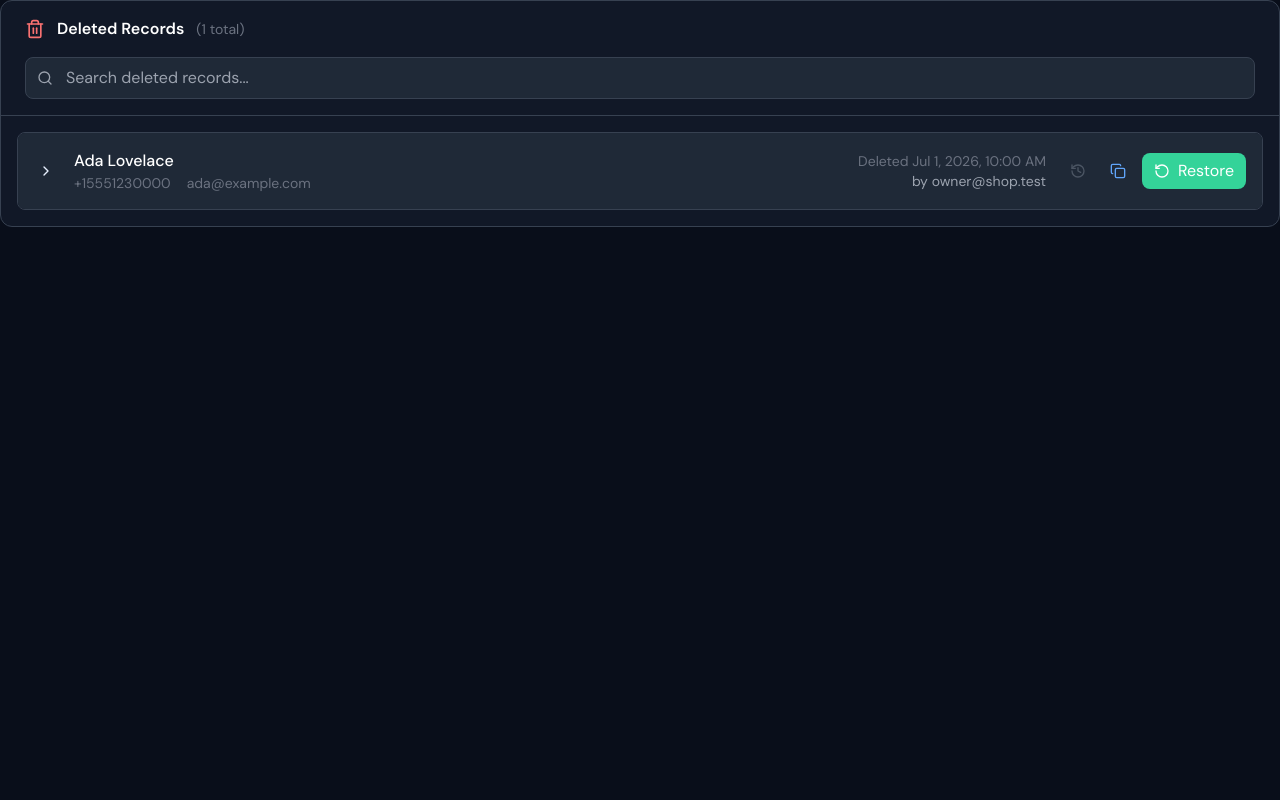
Test: DeletedRecordsPanel a11y › copy dialog has dialog semantics and closes on Escape
This screenshot has width=1280, height=800.
Check: the text "Ada Lovelace" is shown, box [74,150,174,171]
Click the button named "Copy fields from Ada Lovelace" at coordinates (1118, 171), box [1102,153,1134,189]
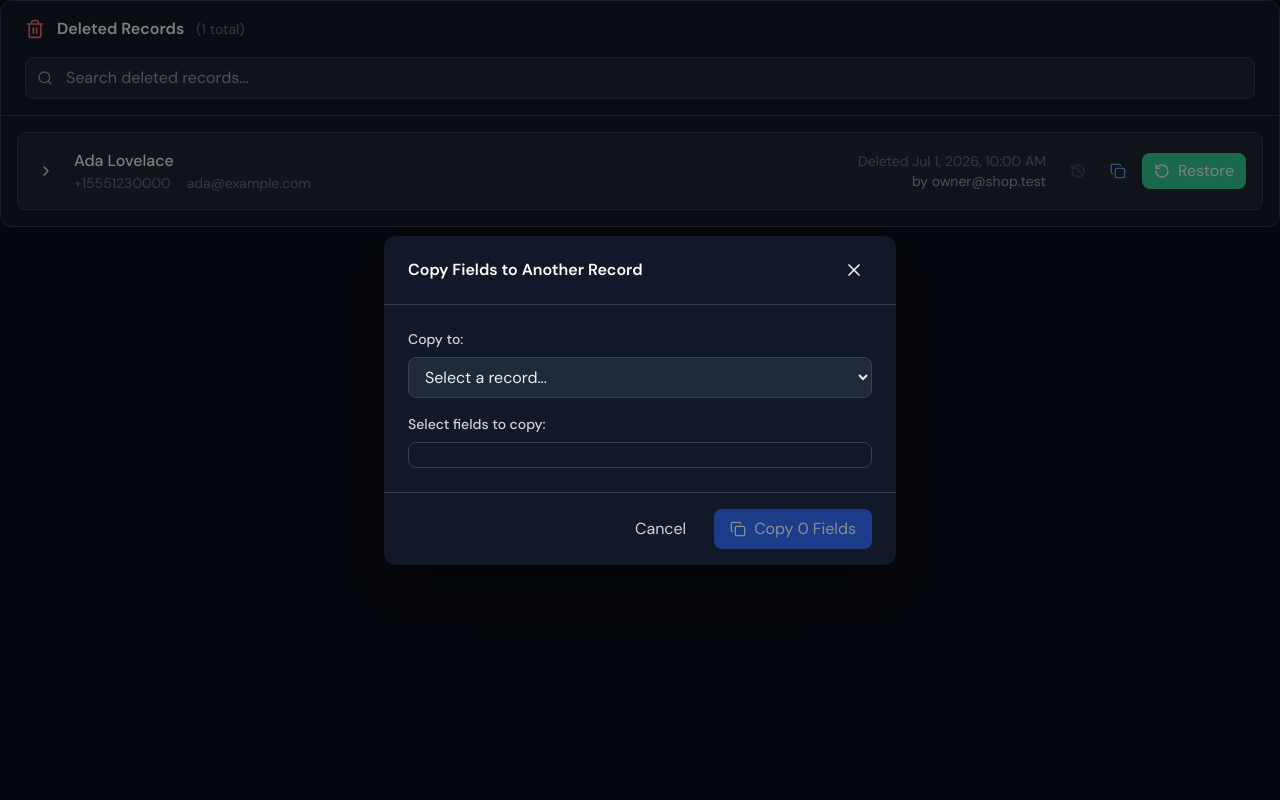
Check: the button named "Close copy fields dialog" is shown, box [836,252,872,288]
Press Escape
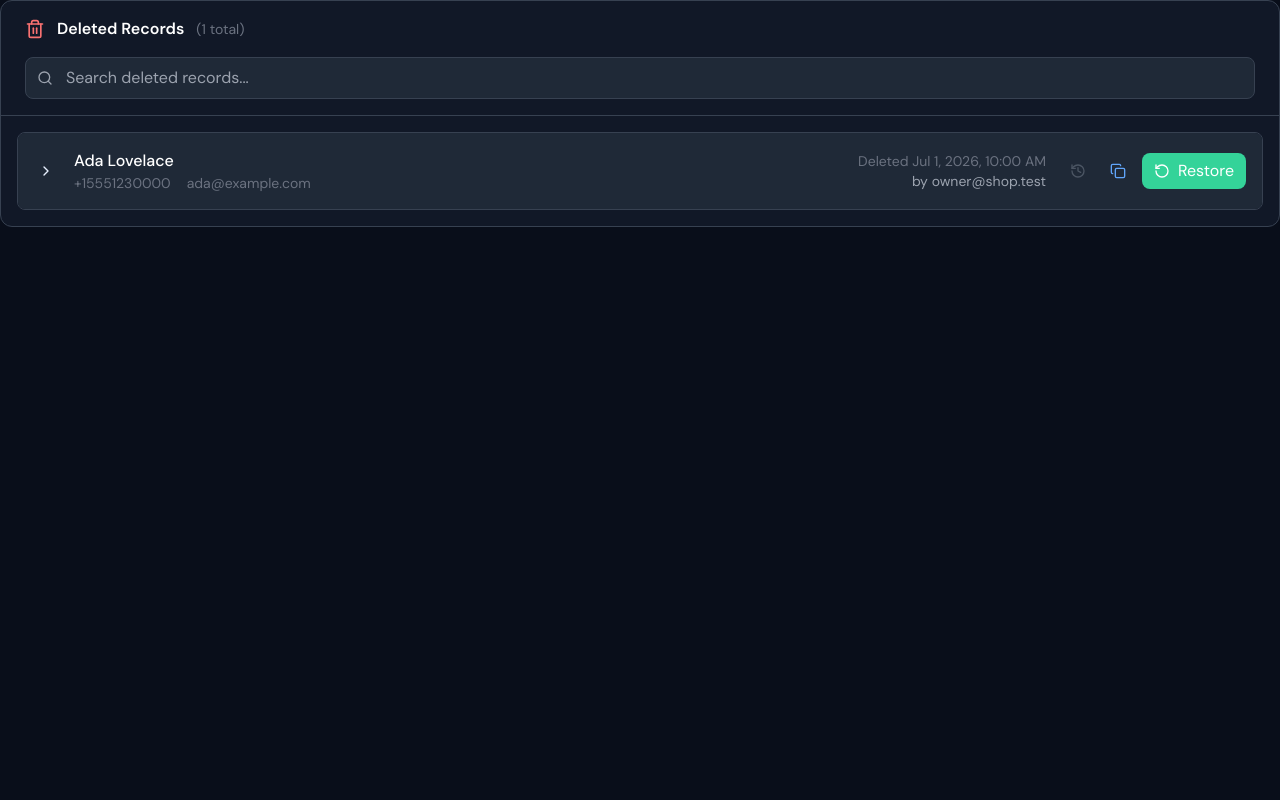
Check: the dialog is gone
